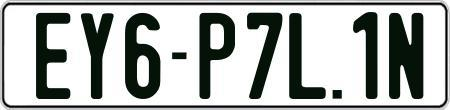1: (351, 12, 378, 99)
6: (122, 12, 157, 102)
7: (246, 10, 284, 101)
E: (36, 10, 71, 98)
L: (287, 10, 326, 100)
N: (386, 11, 423, 101)
P: (198, 13, 238, 105)
Y: (81, 10, 115, 99)
